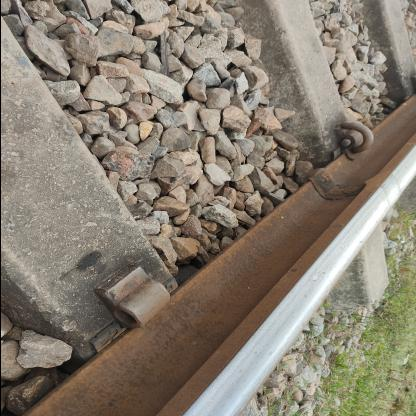Defective 1: (70, 234, 194, 354)
